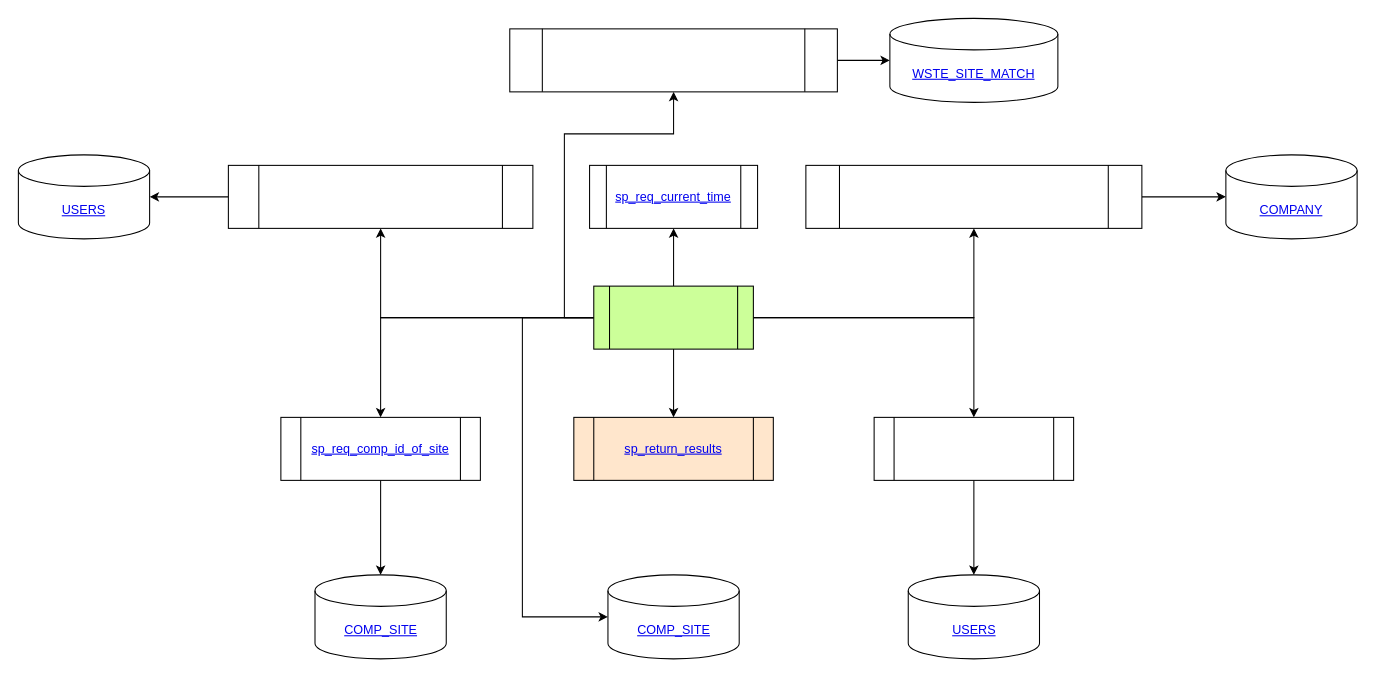
Image size: 1375x677. Some labels were removed from this diagram. The shapes that lost their labels are listed below. From the top down, each one's centre as x and y in pixels, then its label:
At (x=673, y=60): "sp_update_site_wste_lists_without_handler".
At (x=380, y=196): "sp_req_super_permission_by_userid".
At (x=973, y=196): "sp_req_same_company_permit_code_exists".
At (x=673, y=317): "sp_create_collector".
At (x=973, y=448): "sp_req_user_exists_by_id".
